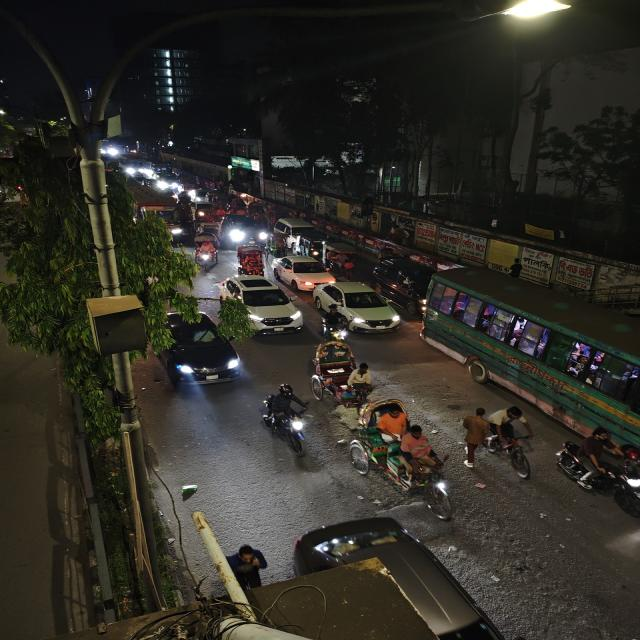bicycle: (492, 403, 536, 480)
bus: (422, 267, 640, 447)
car: (359, 516, 532, 640), (157, 312, 247, 391), (217, 276, 303, 336), (310, 281, 400, 333), (373, 255, 454, 308), (273, 254, 336, 289), (272, 217, 328, 247), (220, 213, 269, 245)
motorcycle: (552, 427, 640, 520), (257, 383, 314, 457), (320, 304, 352, 342)
pedestrian: (463, 404, 486, 466)
rickshaw: (338, 399, 455, 519), (306, 338, 366, 416), (324, 245, 362, 278), (234, 242, 268, 276), (192, 234, 221, 270)
